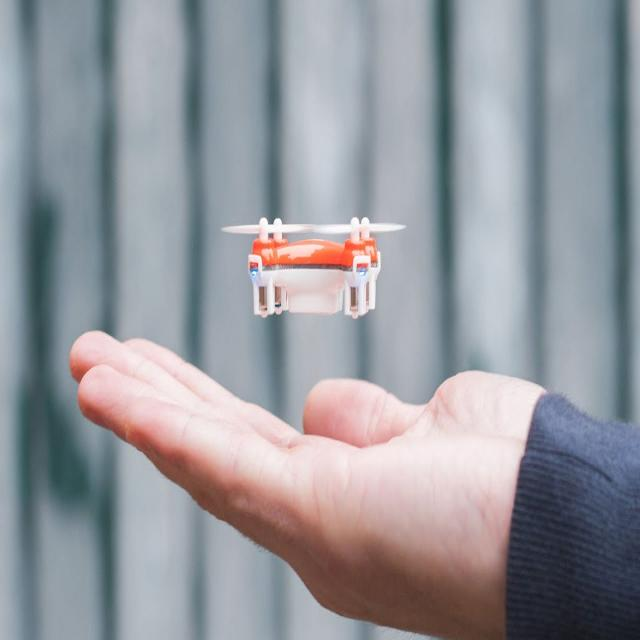drones: (220, 198, 408, 336)
